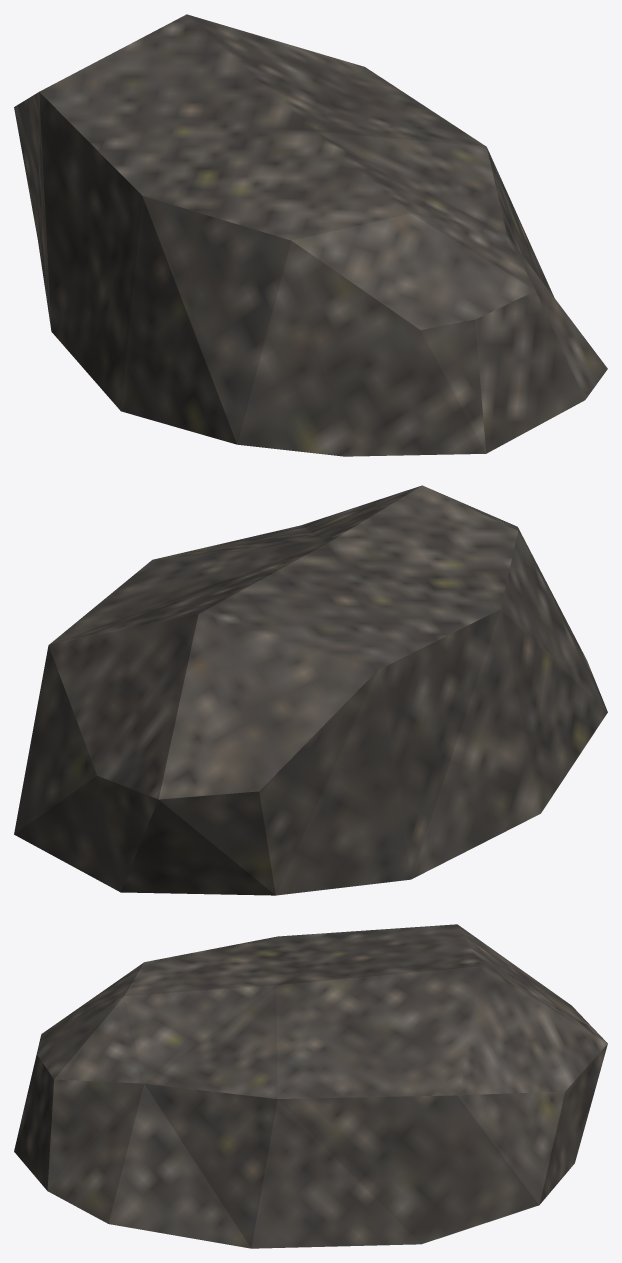
File: Rock01a.obj
3 renders of one model, top to bottom at view 1: azimuth 30°, elevation 25°; view 2: azimuth 150°, elevation 25°; view 3: azimuth 270°, elevation 25°, orthographic. The views are drawn at different scales.
Visible parts, largest first — view 1: Rock01; view 2: Rock01; view 3: Rock01.
Part boxes in pixels (box(x1,y1,x2,y2)): Rock01: box(14, 14, 607, 456); Rock01: box(14, 485, 607, 895); Rock01: box(14, 924, 607, 1248).
Bounding box in the file's own units: 1.52 × 0.8879 × 2.28.
